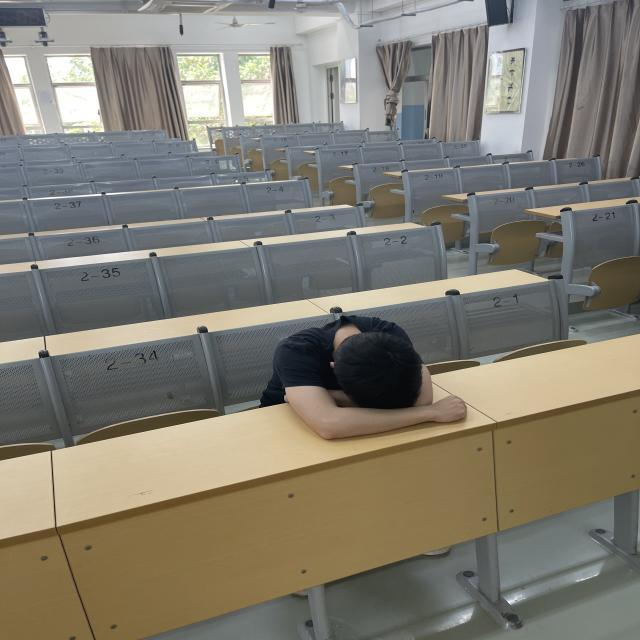sleep: (261, 315, 465, 438)
